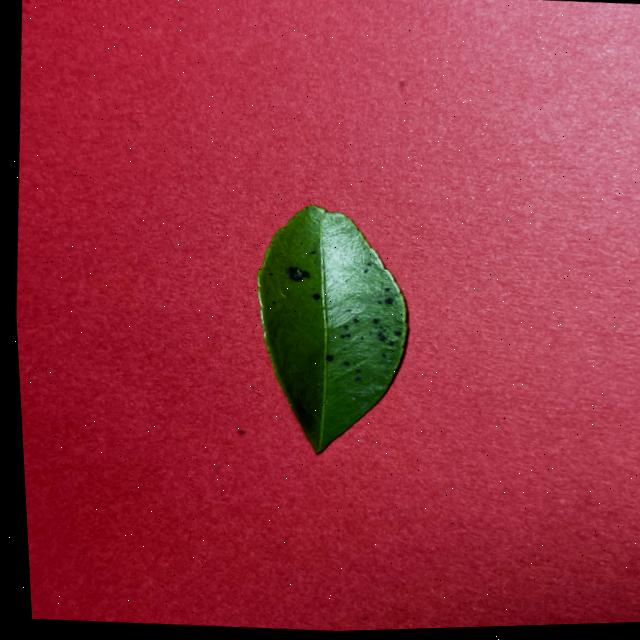sooty_mold: (258, 205, 407, 452)
